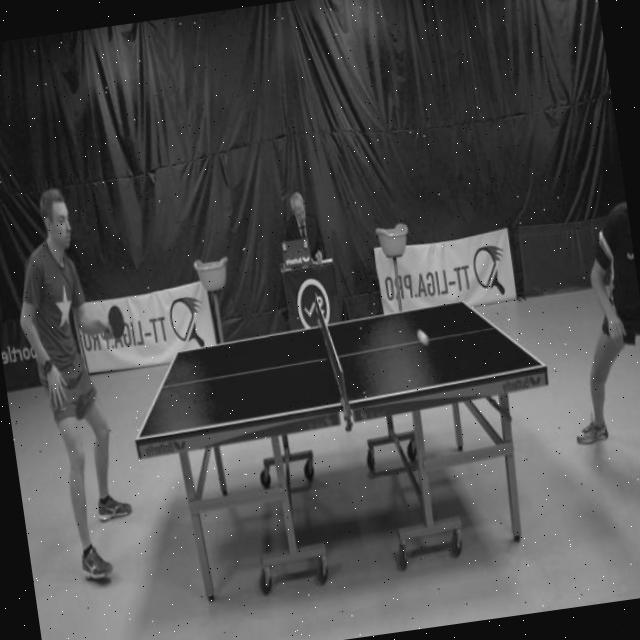ping-pong-ball: (414, 324, 432, 350)
